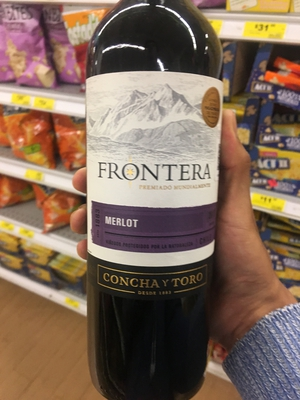frontera merlot: (53, 15, 239, 394)
